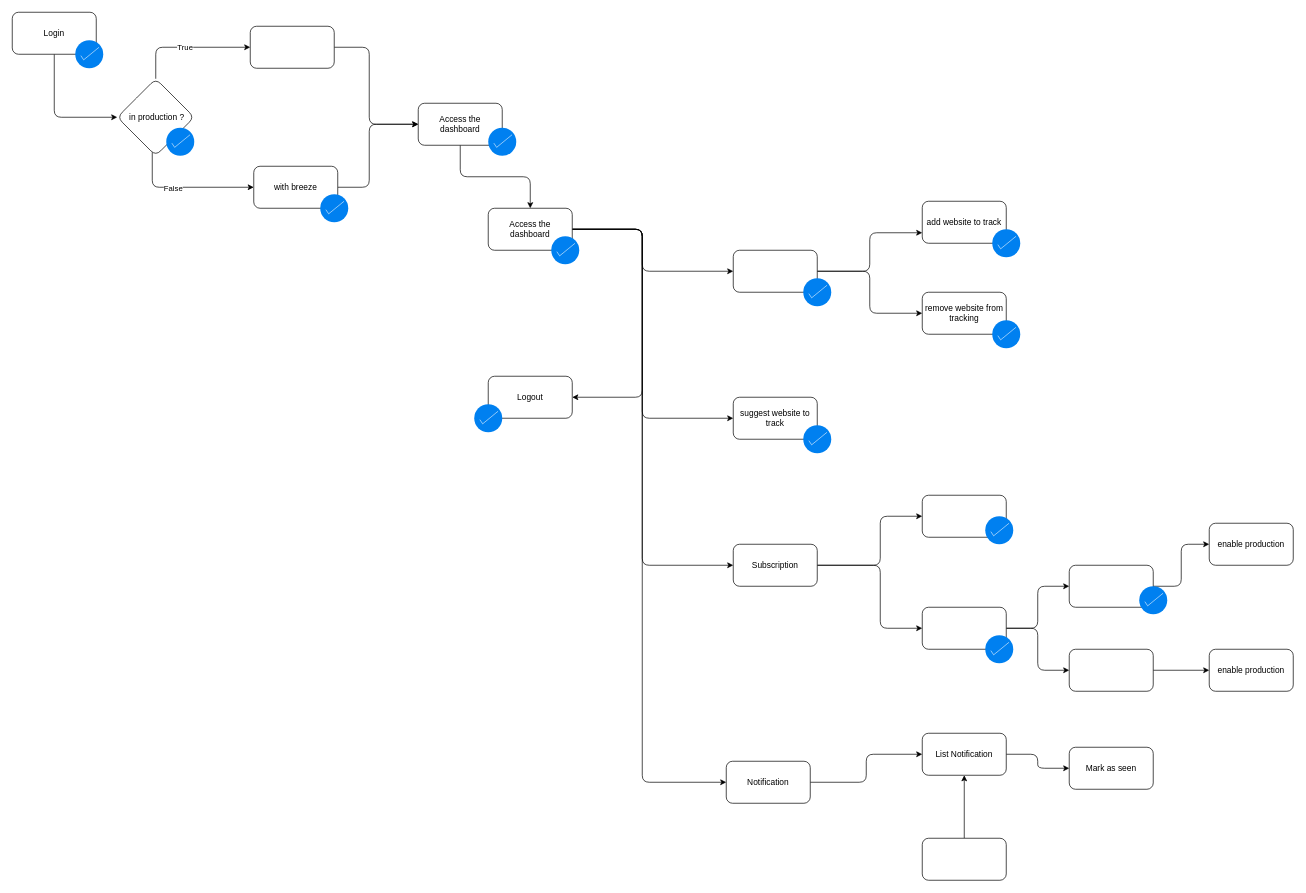
This 1306x893 diagram has some shape labels left out. Each missing label, with the box of its shape:
Admin Notify user about new website beeing added: (922, 838, 1006, 880)
Chargily: (1069, 565, 1153, 607)
List: (922, 495, 1006, 537)
List Websites: (733, 250, 817, 292)
Pay: (922, 607, 1006, 649)
Stripe: (1069, 649, 1153, 691)
With Telegram: (250, 26, 334, 68)
